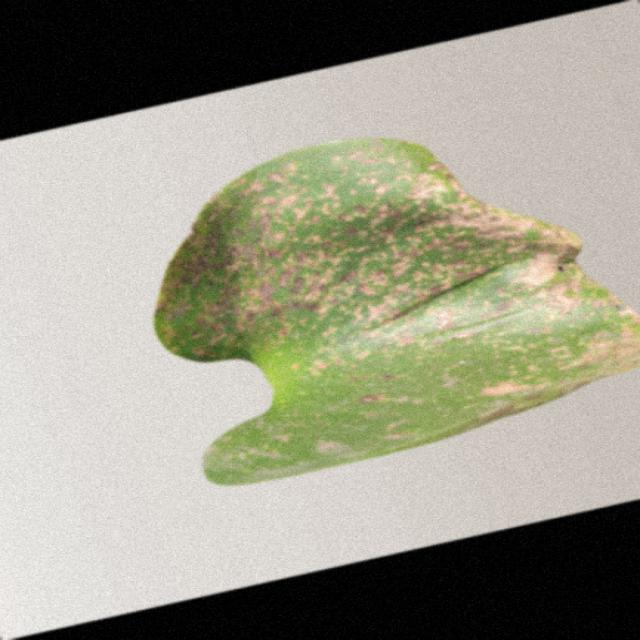daun berpenyakit bercak: (155, 139, 636, 485)
